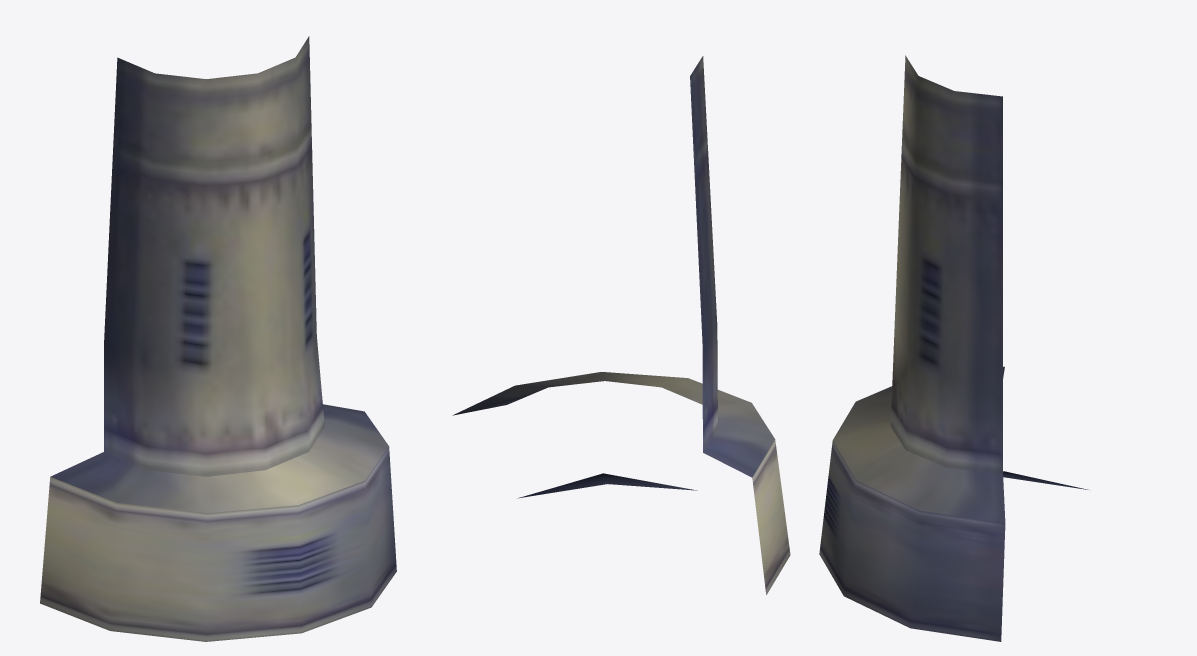
File: toonblitz_start.glb
The picture shows the model from 3 angles, left to right: view 1: azimuth 30°, elevation 25°; view 2: azimuth 150°, elevation 25°; view 3: azimuth 270°, elevation 25°; orthographic projection. The views are drawn at different scales.
Parts seen in each view (by area): view 1: startmesh; view 2: startmesh; view 3: startmesh.
Part boxes in pixels (x1,y1,x2,y2): startmesh: (40,36,396,641); startmesh: (452,56,790,594); startmesh: (819,55,1088,641).
Size of the model in its own units: 12.09 by 18.84 by 12.09.
1 material, 1 textured.
